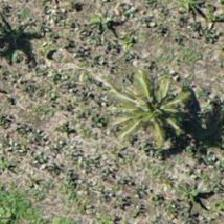coconut_tree: (102, 59, 192, 149)
